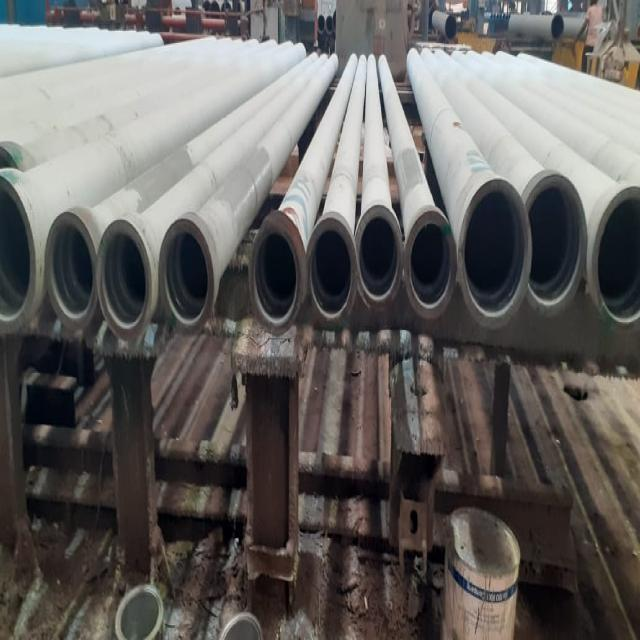pipe: (464, 198, 529, 320), (245, 221, 306, 334), (159, 227, 216, 342), (536, 184, 586, 310), (594, 192, 640, 326), (101, 228, 152, 329), (46, 226, 96, 325), (311, 227, 356, 325), (409, 220, 453, 314), (363, 213, 399, 306)
